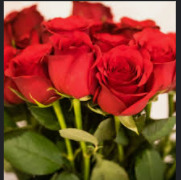RedRose: (92, 50, 154, 116), (46, 35, 101, 106), (130, 22, 176, 93), (7, 43, 55, 105), (6, 5, 44, 45)
